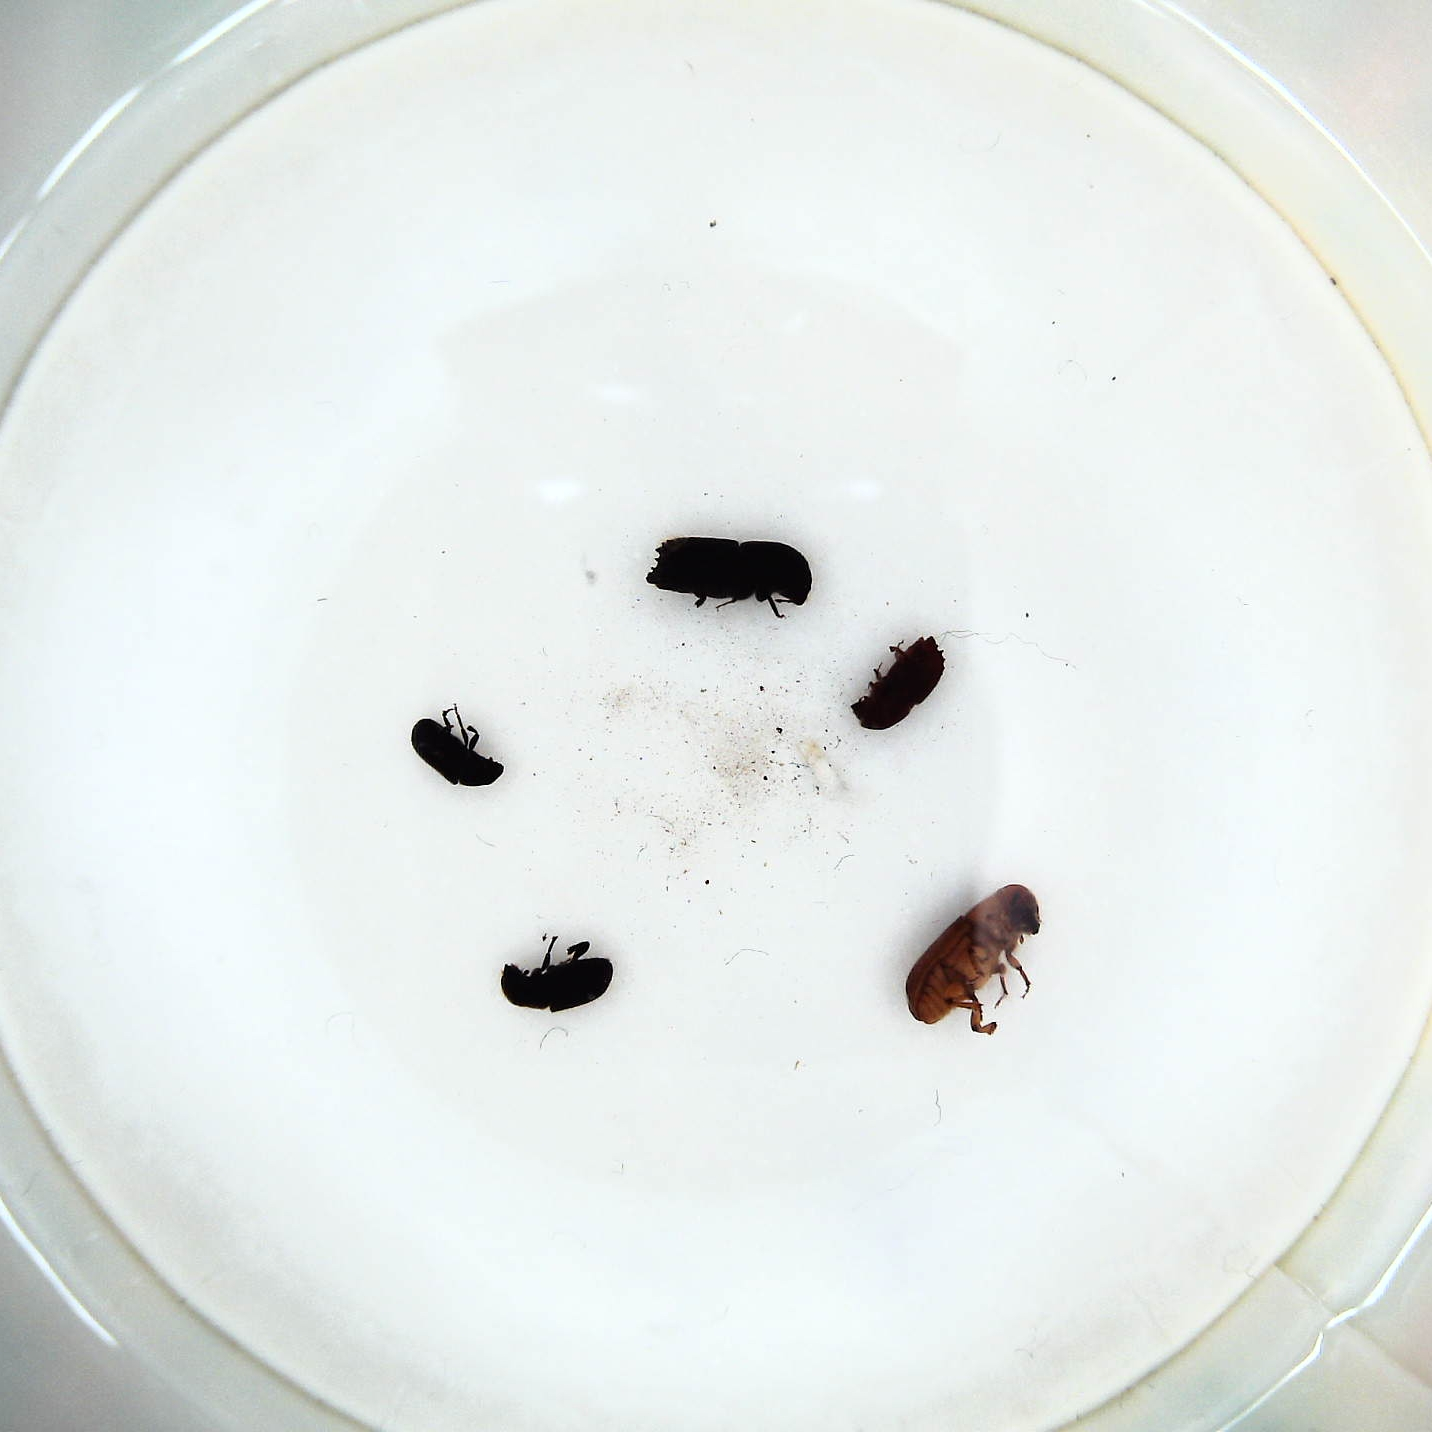Boerner: (645, 532, 818, 612)
Leconte: (904, 876, 1052, 1037)
armandi: (494, 932, 612, 1018)
coleoptera: (408, 700, 501, 799)
linnaeus: (848, 633, 949, 734)
